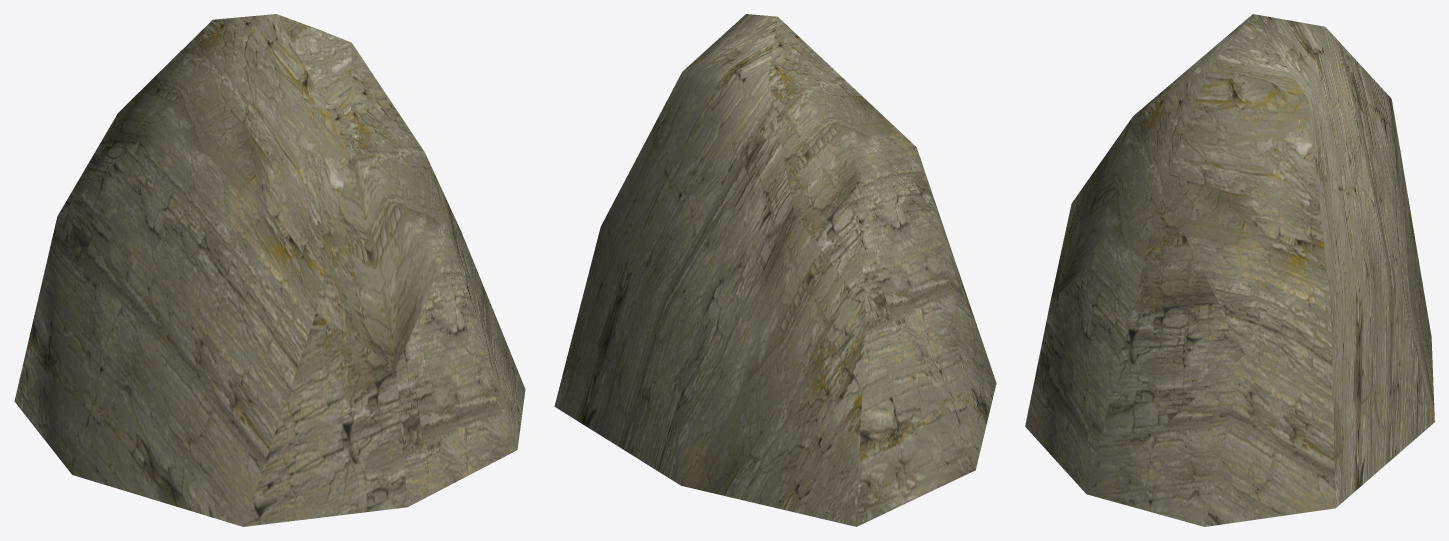
File: stone_granite_large_0.glb
3 renders of one model, left to right at view 1: azimuth 30°, elevation 25°; view 2: azimuth 150°, elevation 25°; view 3: azimuth 270°, elevation 25°, orthographic.
Visible parts, largest first — view 1: stone_granite_large_0; view 2: stone_granite_large_0; view 3: stone_granite_large_0.
Boxes of the visible parts, bbox=[...] form: stone_granite_large_0: bbox=[14, 14, 525, 526]; stone_granite_large_0: bbox=[554, 14, 996, 526]; stone_granite_large_0: bbox=[1025, 14, 1434, 526].
Bounding box in the file's own units: 1.32 × 1.22 × 1.11.
1 material, 1 textured.
